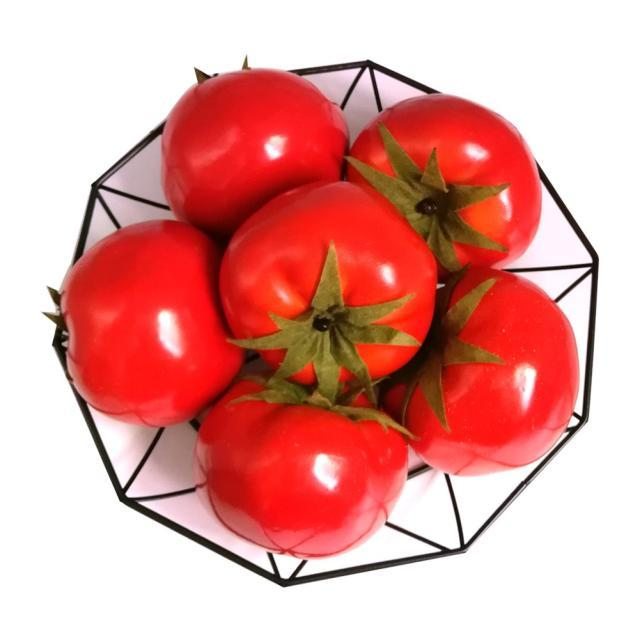kirmizi: (94, 54, 578, 560)
